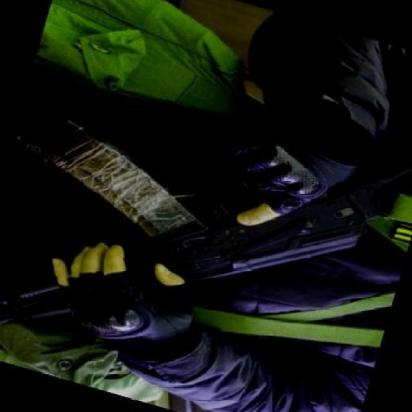Gun: (0, 110, 408, 364)
